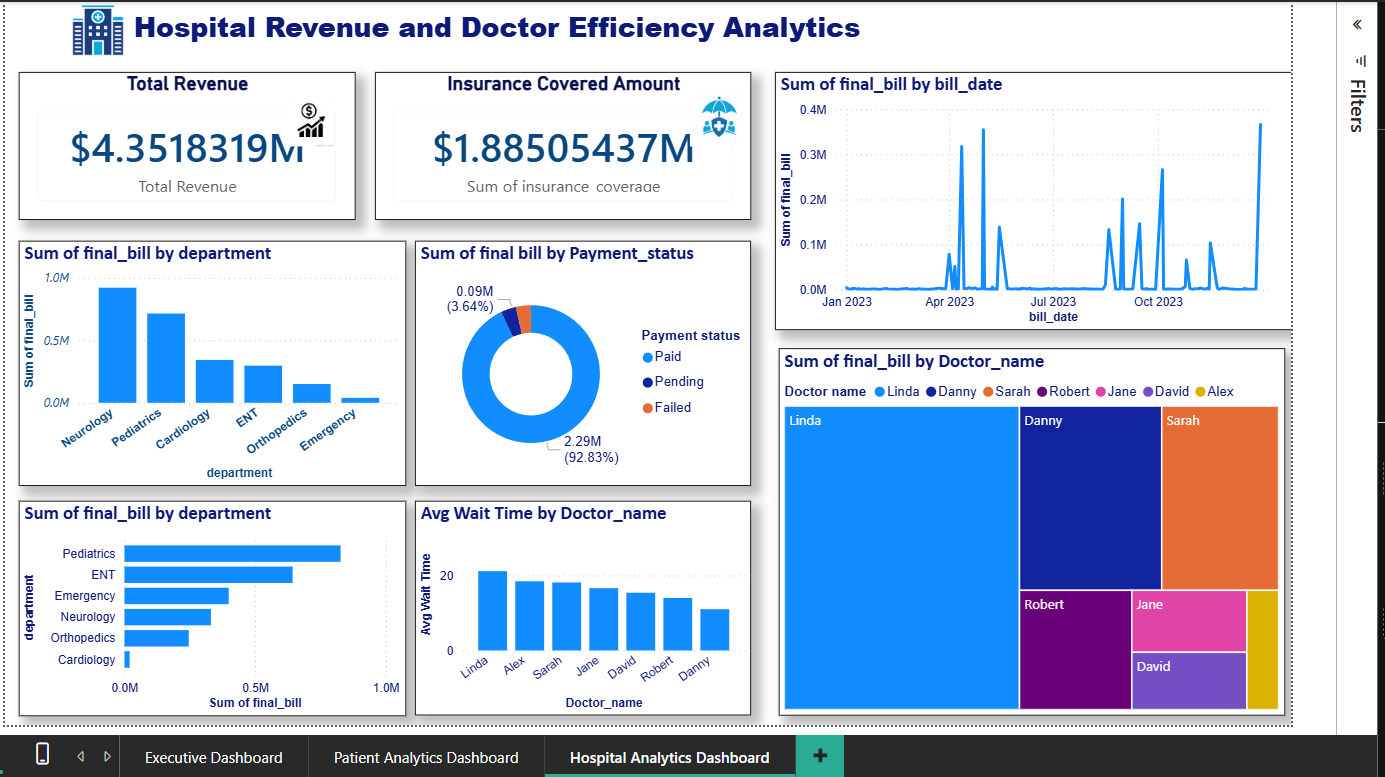

The page's visual inventory and layout, read from the dashboard file:
{"tool":"powerbi","page":{"name":"Hospital Analytics Dashboard","canvas":[1280,720],"ordinal":2},"visuals":[{"type":"image","box":[60.4,0,63.1,56.3],"z":0},{"type":"textbox","box":[123.5,0,778,93.3],"z":1000},{"type":"cardVisual","title":"Total Revenue ","fields":{"Data":["billing.Total Revenue"]},"box":[13.7,70,334.8,146.8],"z":2000},{"type":"image","box":[271.7,93.3,67.2,50.8],"z":3000},{"type":"cardVisual","title":"Insurance Covered Amount","fields":{"Data":["Sum(billing.insurance_coverage)"]},"box":[367.8,70,374.6,146.8],"z":4000},{"type":"image","box":[679.2,85.1,63.1,59],"z":5000},{"type":"clusteredColumnChart","fields":{"Category":["appointments.department"],"Y":["Sum(billing.final_bill)"]},"box":[13.7,237.4,385.6,244.3],"z":6000},{"type":"donutChart","title":"Sum of final bill by Payment_status","fields":{"Category":["billing.payment_status"],"Y":["Sum(billing.final_bill)"]},"box":[408,237.6,334.6,243.8],"z":7000},{"type":"lineChart","fields":{"Category":["billing.bill_date"],"Y":["Sum(billing.final_bill)"]},"box":[765.7,70,514.6,256.6],"z":8000},{"type":"clusteredBarChart","fields":{"Category":["patients.department"],"Y":["Sum(billing.final_bill)"]},"box":[13.7,496.7,385.6,214.1],"z":9000},{"type":"treemap","fields":{"Group":["doctors.first_name"],"Values":["Sum(billing.final_bill)"]},"box":[770,344.6,503.8,365.7],"z":10000},{"type":"clusteredColumnChart","fields":{"Category":["doctors.Doctor_name"],"Y":["appointments.Avg Wait Time"]},"box":[408,496.3,334.6,214],"z":11000}]}

Visuals, with their boxes on the page's 1280x720 design canvas (x1, y1, x2, y2). These are canvas units, not pixel positions in the 1385x777 screenshot, which may show the page scaled, cropped or inside an application window:
image: pyautogui.locateOnScreen(60, 0, 124, 56)
textbox: pyautogui.locateOnScreen(124, 0, 902, 93)
"Total Revenue " cardVisual: pyautogui.locateOnScreen(14, 70, 348, 217)
image: pyautogui.locateOnScreen(272, 93, 339, 144)
"Insurance Covered Amount" cardVisual: pyautogui.locateOnScreen(368, 70, 742, 217)
image: pyautogui.locateOnScreen(679, 85, 742, 144)
clusteredColumnChart - appointments.department x Sum(billing.final_bill): pyautogui.locateOnScreen(14, 237, 399, 482)
"Sum of final bill by Payment_status" donutChart: pyautogui.locateOnScreen(408, 238, 743, 481)
lineChart - billing.bill_date x Sum(billing.final_bill): pyautogui.locateOnScreen(766, 70, 1280, 327)
clusteredBarChart - patients.department x Sum(billing.final_bill): pyautogui.locateOnScreen(14, 497, 399, 711)
treemap - doctors.first_name x Sum(billing.final_bill): pyautogui.locateOnScreen(770, 345, 1274, 710)
clusteredColumnChart - doctors.Doctor_name x appointments.Avg Wait Time: pyautogui.locateOnScreen(408, 496, 743, 710)
